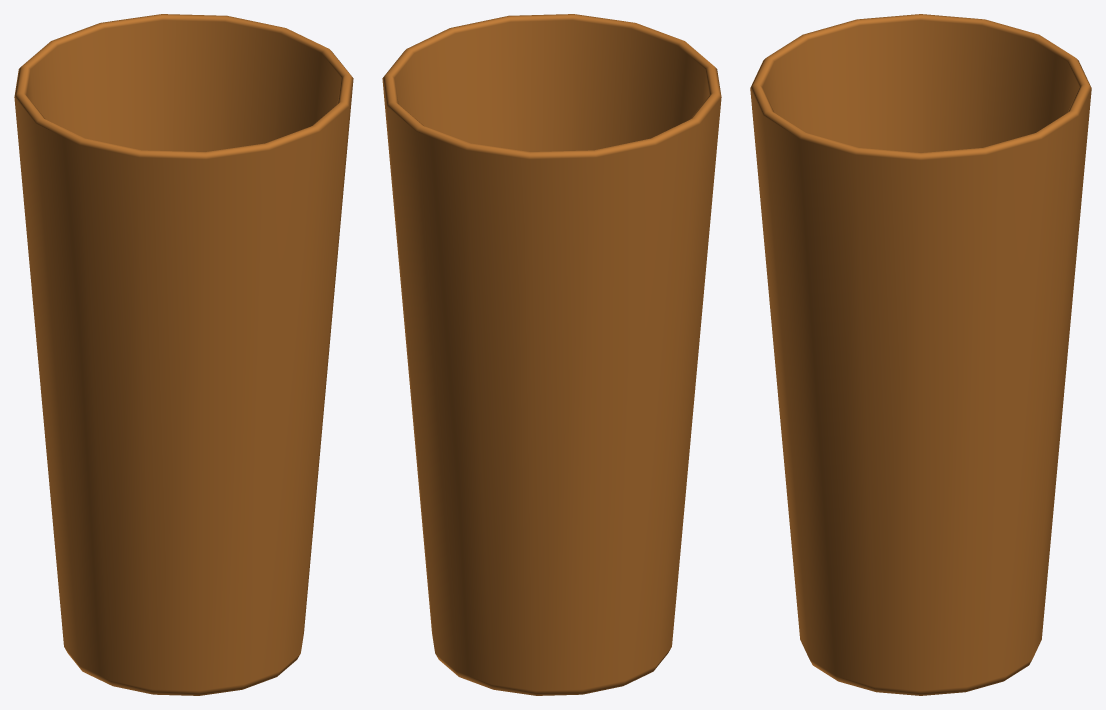
The model's file is RoboTHOR_cup_ai2_v.obj.
3 renders of one model, left to right at view 1: azimuth 30°, elevation 25°; view 2: azimuth 150°, elevation 25°; view 3: azimuth 270°, elevation 25°, orthographic.
Size of the model in its own units: 0.085 by 0.1552 by 0.085.
